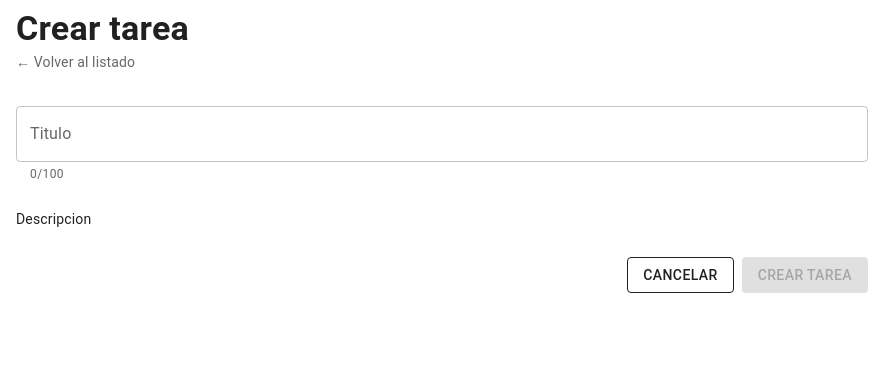
Test: CreateTaskPage › muestra error si repo.create falla
In the field labelled "Titulo": (442, 134) [16,106,868,162], type "Tarea nueva"
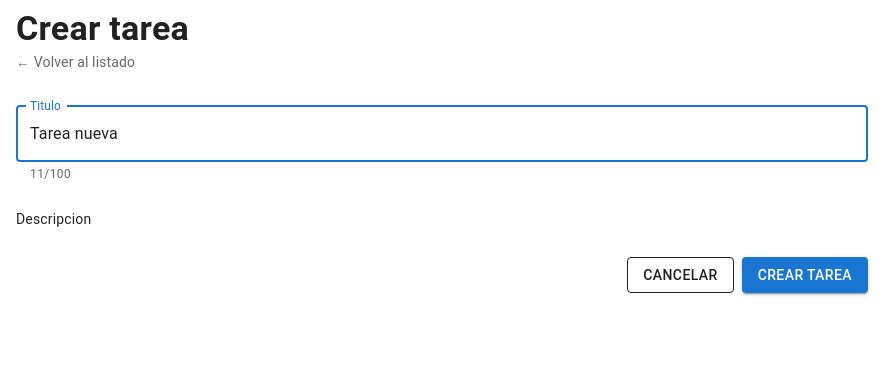
Click the button "Crear tarea": (805, 275) [742,257,868,293]
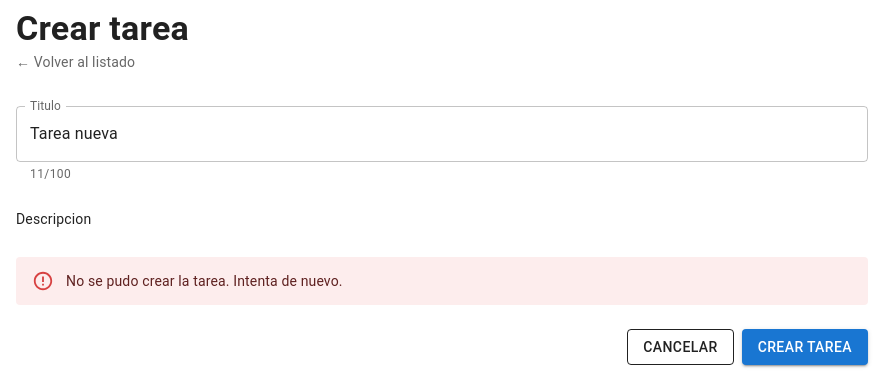
Check: the message shows "No se pudo crear", box [66,273,343,289]
